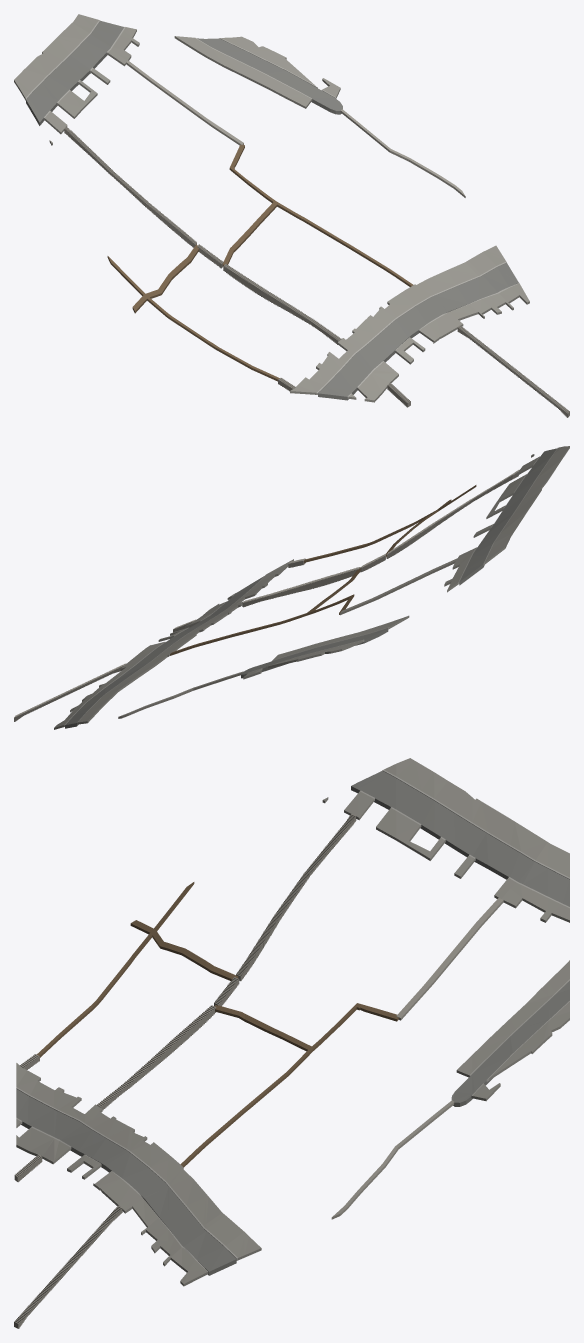
3 renders of one model, top to bottom at view 1: azimuth 30°, elevation 25°; view 2: azimuth 210°, elevation 25°; view 3: azimuth 270°, elevation 25°, orthographic. The views are drawn at different scales.
Size of the model in its own units: 147 by 103 by 146.
